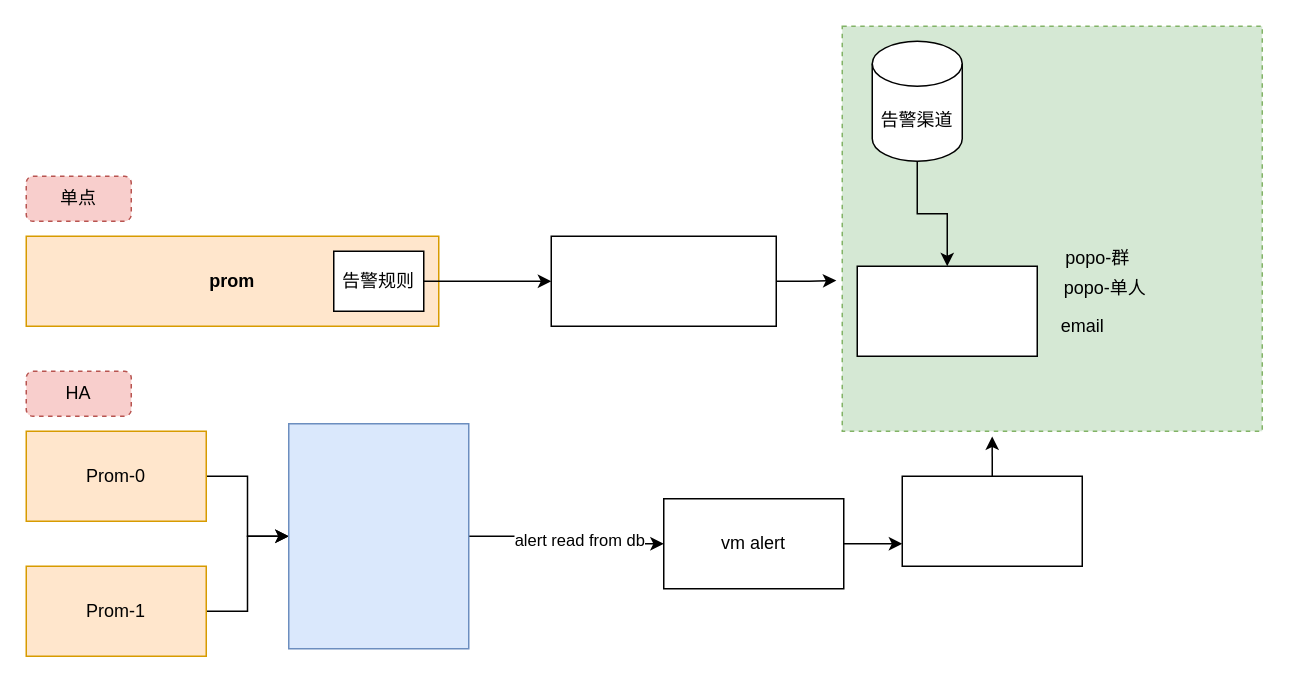
Some shapes in this 1289 by 683 pixel diagram are drawn without their labels. Here are the shapes that lost their labels. From the top down, the centre of each, then its label:
the point at 663,280: Alertmanager
the point at 946,310: Webhook
the point at 378,535: VictoriaMetrics DB
the point at 991,520: vm Alertmanager
